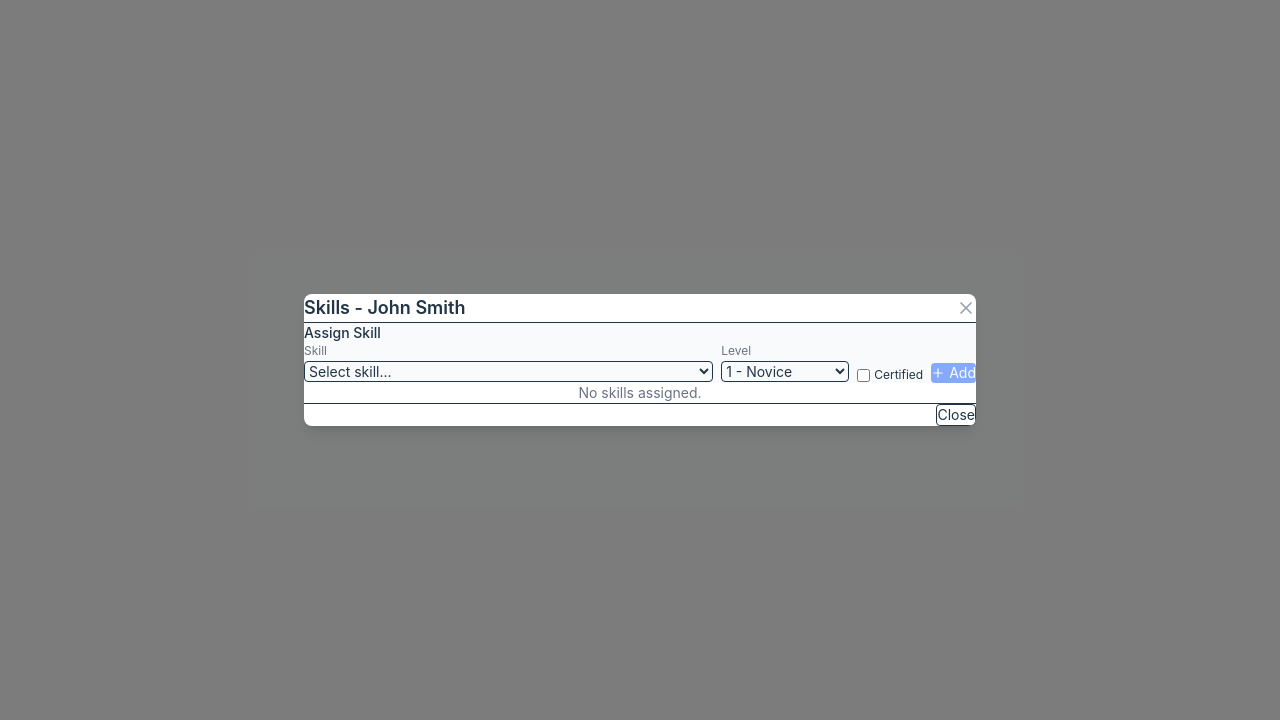
ResourceSkillsModal › shows error toast on add failure
Step 1. Select "Systems Engineering (SE)" in the dropdown labelled "Skill" → x=509, y=372, box 304,361 -> 713,382
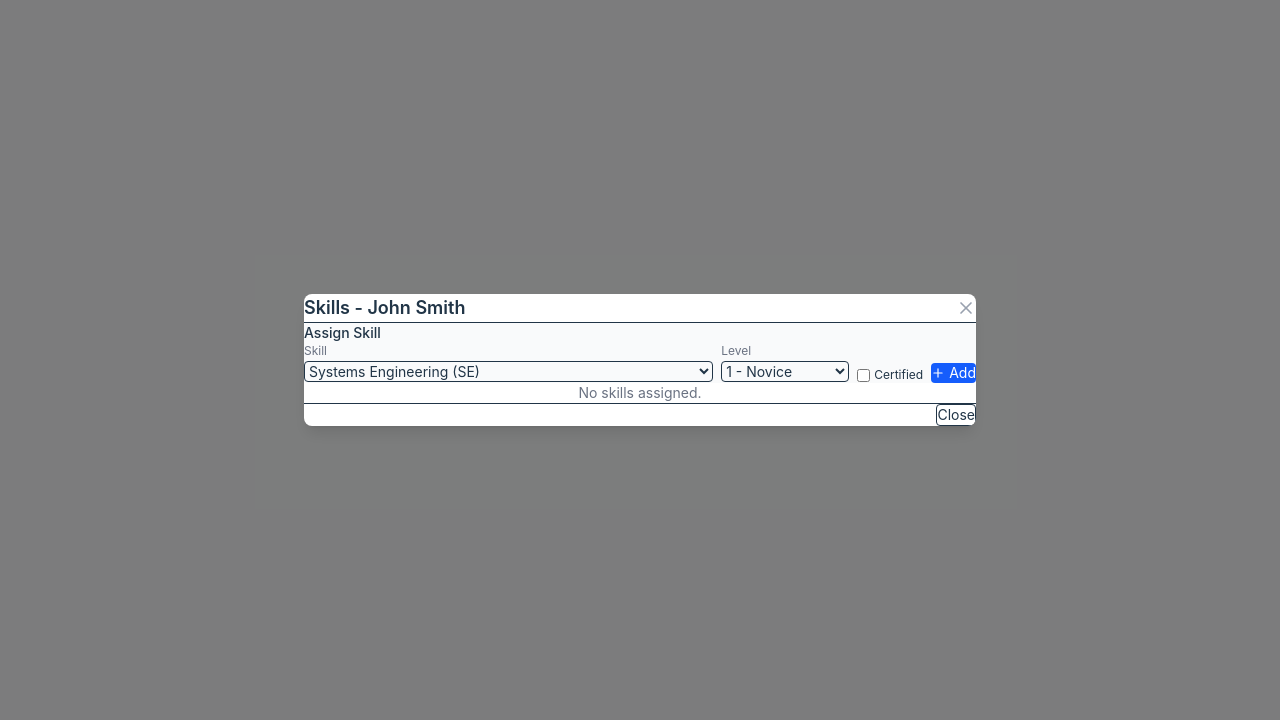
Step 2. Click the button "Add" → x=954, y=373, box 931,363 -> 976,383
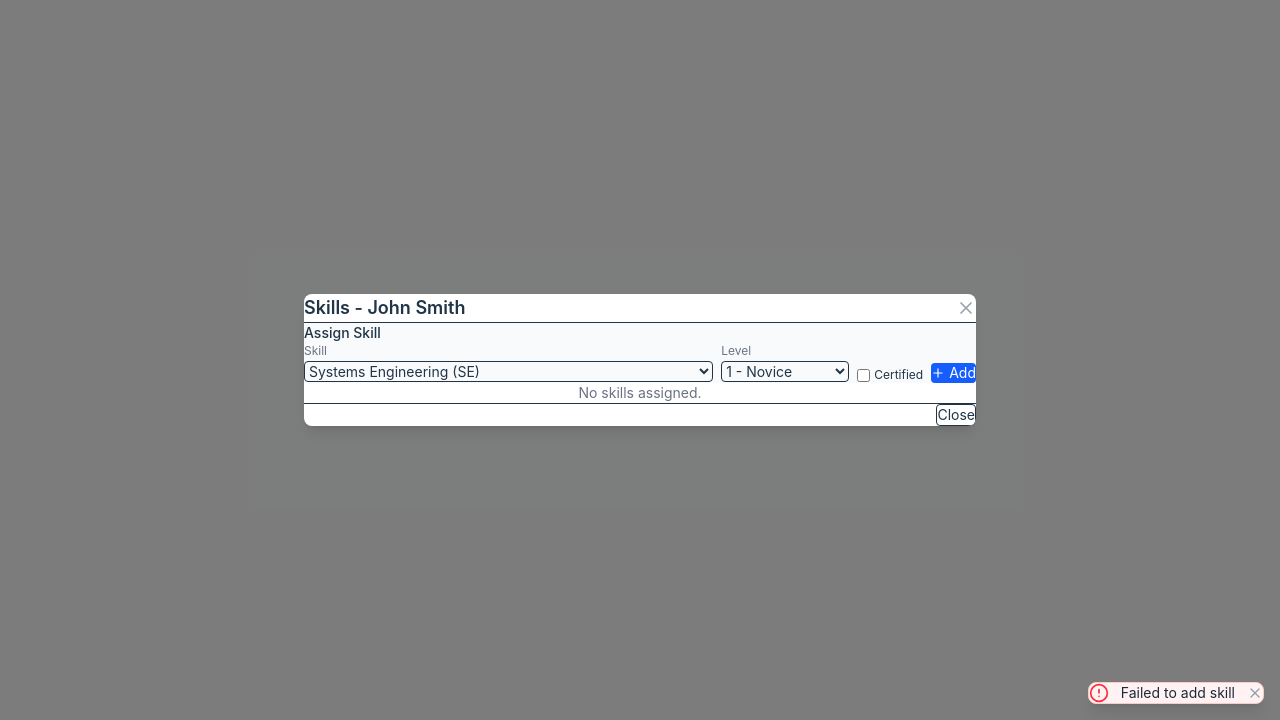
Result: the text "Failed to add skill" is shown at 1121,683 -> 1235,703
